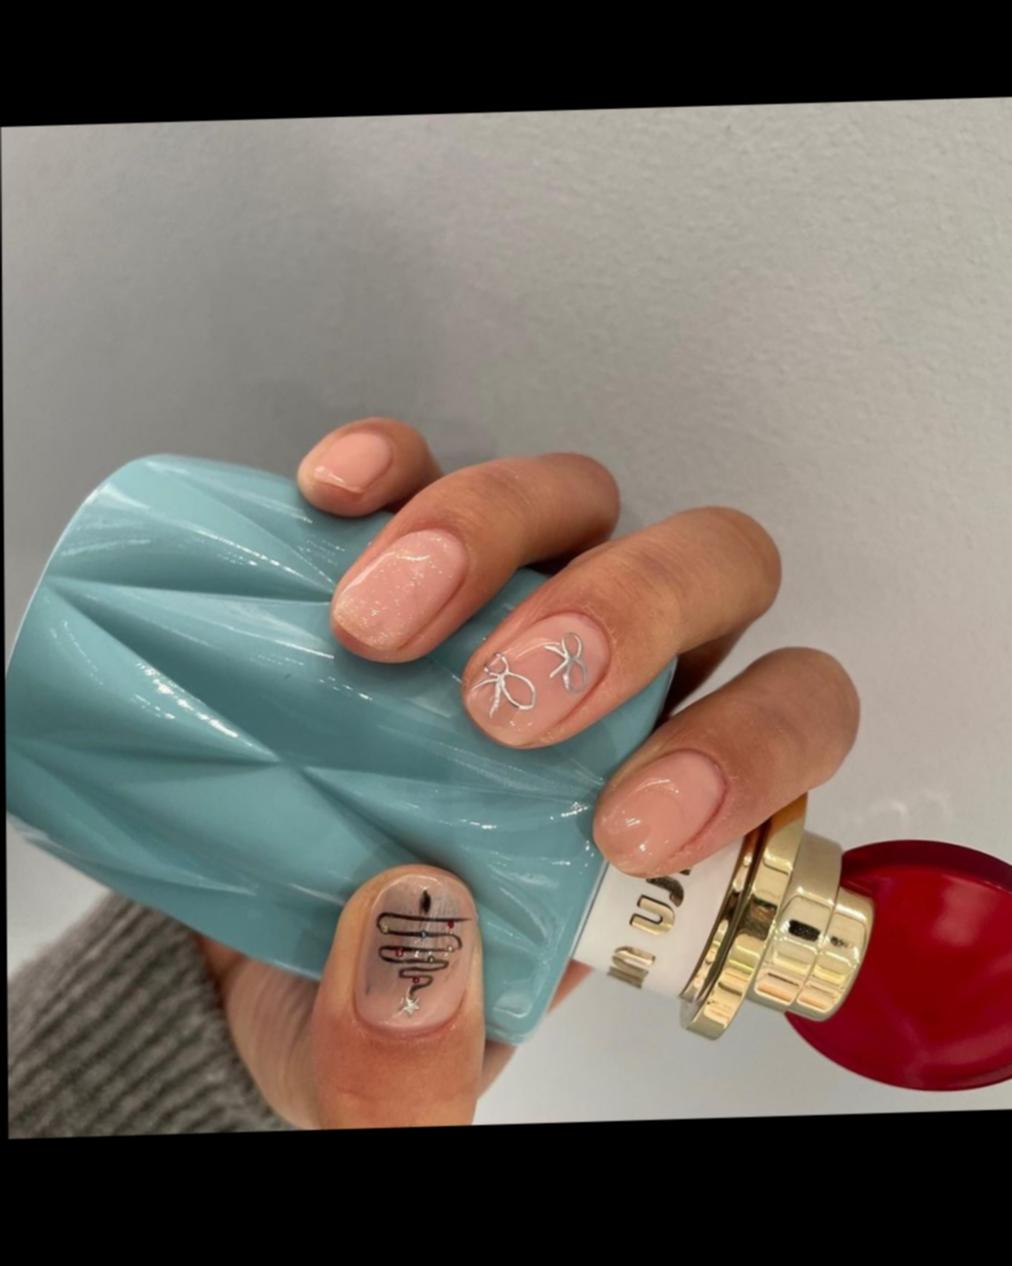nail: (460, 609, 613, 753), (329, 527, 471, 659), (591, 748, 731, 880), (295, 415, 443, 521)
